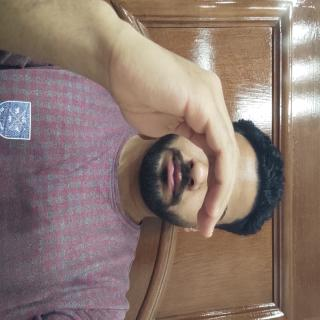HAA: (6, 101, 182, 302)
